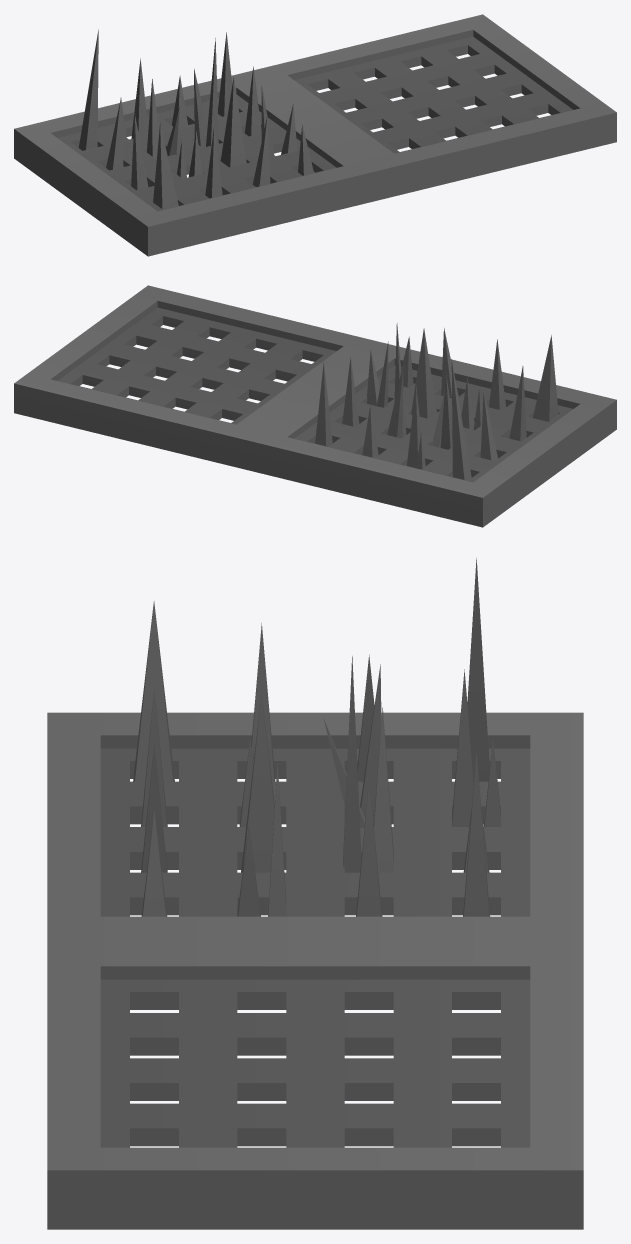
The model's file is Double_Ground_Thorn_Trap.fbx.
3 renders of one model, top to bottom at view 1: azimuth 30°, elevation 25°; view 2: azimuth 150°, elevation 25°; view 3: azimuth 270°, elevation 25°, orthographic. The views are drawn at different scales.
Visible parts, largest first — view 1: Double_Ground_Thorn_Trap, Double_Ground_Thorn_Trap_Thorns; view 2: Double_Ground_Thorn_Trap, Double_Ground_Thorn_Trap_Thorns; view 3: Double_Ground_Thorn_Trap, Double_Ground_Thorn_Trap_Thorns.
Part boxes in pixels (box(x1,y1,x2,y2)): Double_Ground_Thorn_Trap: box(14, 14, 616, 256); Double_Ground_Thorn_Trap_Thorns: box(78, 29, 313, 209); Double_Ground_Thorn_Trap: box(14, 285, 616, 527); Double_Ground_Thorn_Trap_Thorns: box(315, 323, 558, 480); Double_Ground_Thorn_Trap: box(47, 712, 583, 1229); Double_Ground_Thorn_Trap_Thorns: box(133, 558, 500, 916).
Bounding box in the file's own units: 167 × 46.46 × 82.9.
Materials: 1 (1 with a texture image).
